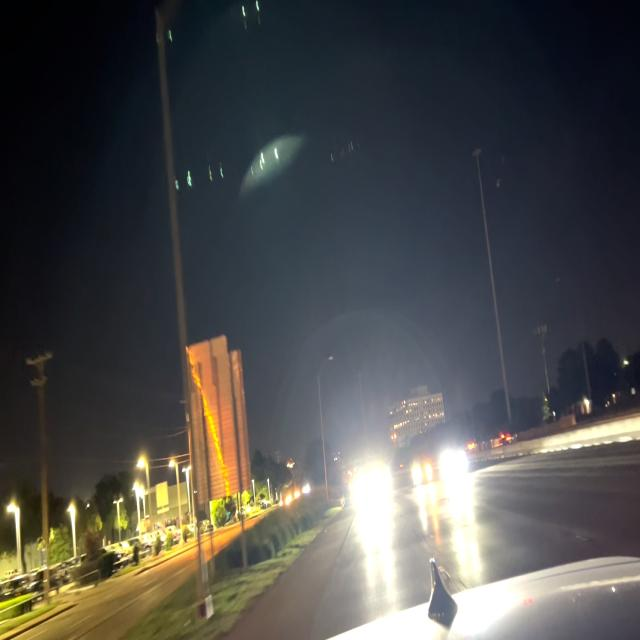back-of-sign: (188, 335, 255, 505)
